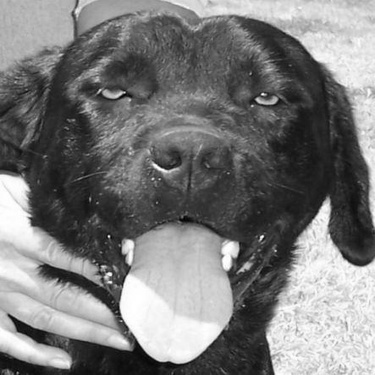dog: (1, 9, 370, 369)
